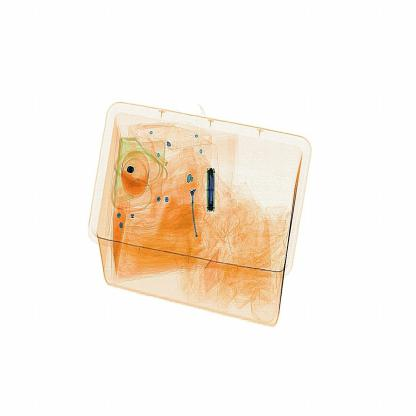scissors: (201, 162, 226, 218)
